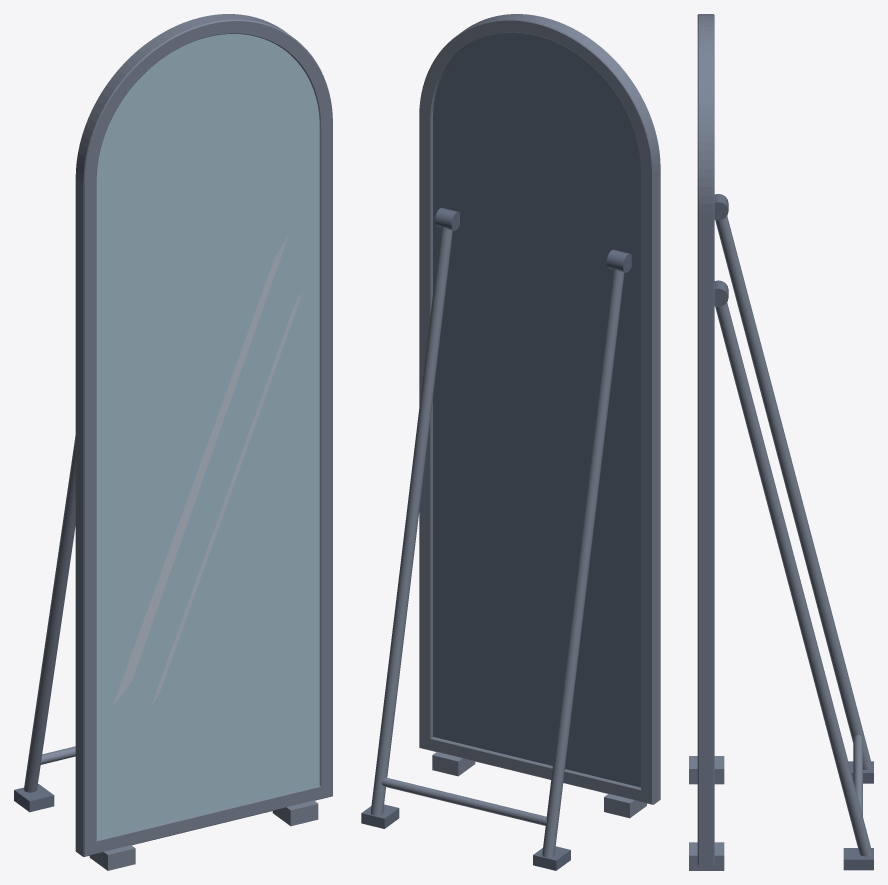
File: 穿衣镜-lite.glb
The picture shows the model from 3 angles, left to right: view 1: azimuth 30°, elevation 25°; view 2: azimuth 150°, elevation 25°; view 3: azimuth 270°, elevation 25°; orthographic projection. The views are drawn at different scales.
Visible parts, largest first — view 1: full-length-mirror-glass, full-length-mirror-frame, full-length-mirror-light, full-length-mirror-dark; view 2: full-length-mirror-dark, full-length-mirror-frame; view 3: full-length-mirror-frame, full-length-mirror-dark.
Part boxes in pixels (box(x1,y1,x2,y2)): full-length-mirror-glass: box(96, 34, 319, 839); full-length-mirror-frame: box(23, 14, 332, 870); full-length-mirror-light: box(113, 235, 302, 705); full-length-mirror-dark: box(14, 784, 54, 812); full-length-mirror-dark: box(361, 32, 640, 870); full-length-mirror-frame: box(370, 14, 660, 857); full-length-mirror-frame: box(689, 14, 872, 870); full-length-mirror-dark: box(714, 194, 873, 870).
Size of the model in its own units: 0.524 by 1.64 by 0.3465.
